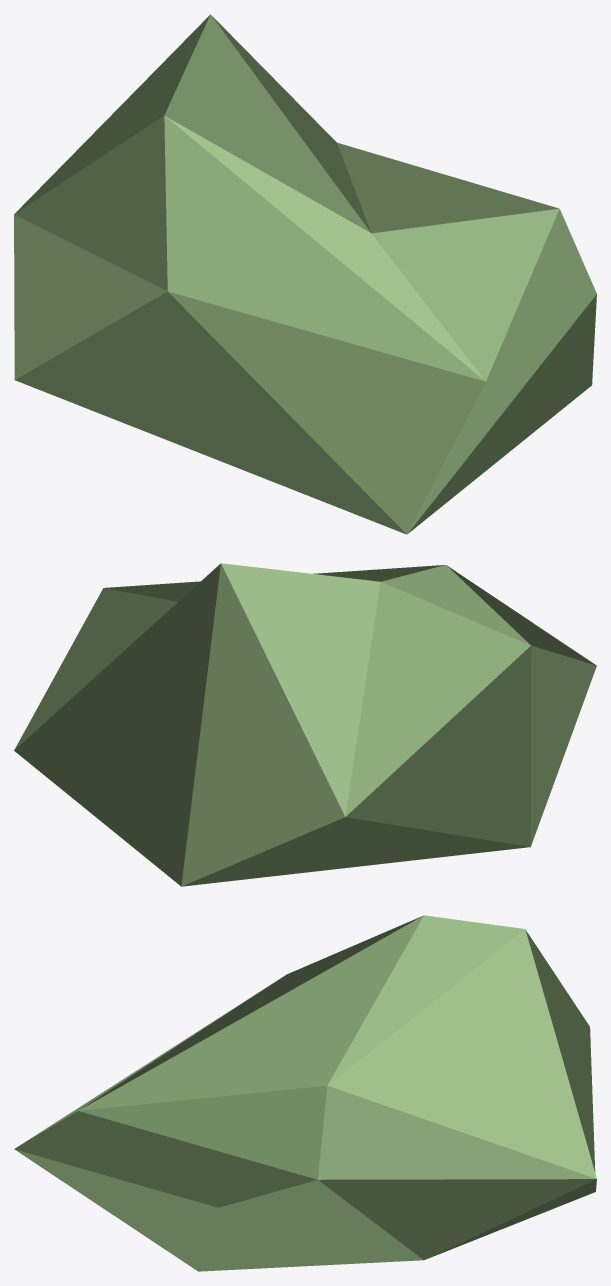
3 renders of one model, top to bottom at view 1: azimuth 30°, elevation 25°; view 2: azimuth 150°, elevation 25°; view 3: azimuth 270°, elevation 25°, orthographic. The views are drawn at different scales.
Parts seen in each view (by area): view 1: Icosahedron; view 2: Icosahedron; view 3: Icosahedron.
Part boxes in pixels (x1,y1,x2,y2): Icosahedron: (14,14,596,534); Icosahedron: (14,563,596,886); Icosahedron: (14,915,596,1271).
Size of the model in its own units: 1.24 by 0.7176 by 1.44.
